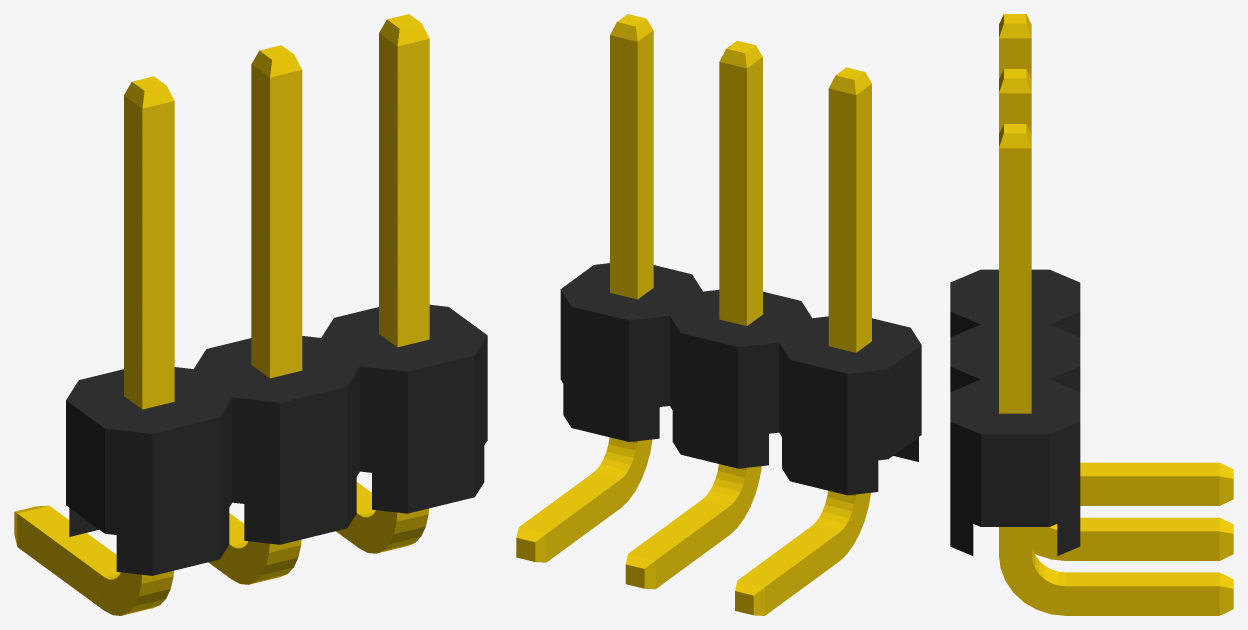
File: PLS-3RD_(DS1022_CONNFLY).obj
3 renders of one model, left to right at view 1: azimuth 30°, elevation 25°; view 2: azimuth 150°, elevation 25°; view 3: azimuth 270°, elevation 25°, orthographic. The views are drawn at different scales.
Visible parts, largest first — view 1: PLS-3RD_(DS1022_CONNFLY); view 2: PLS-3RD_(DS1022_CONNFLY); view 3: PLS-3RD_(DS1022_CONNFLY).
Boxes of the visible parts, <box> form: PLS-3RD_(DS1022_CONNFLY): <box>14,14,487,615</box>; PLS-3RD_(DS1022_CONNFLY): <box>516,14,921,615</box>; PLS-3RD_(DS1022_CONNFLY): <box>950,14,1233,615</box>.
Bounding box in the file's own units: 0.0216 × 0.0294 × 0.0157.
